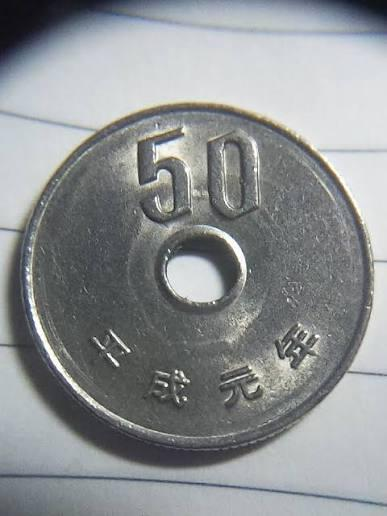year: (87, 296, 318, 441)
